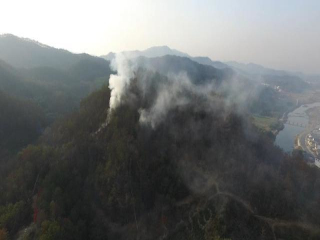smoke: (92, 51, 279, 142)
